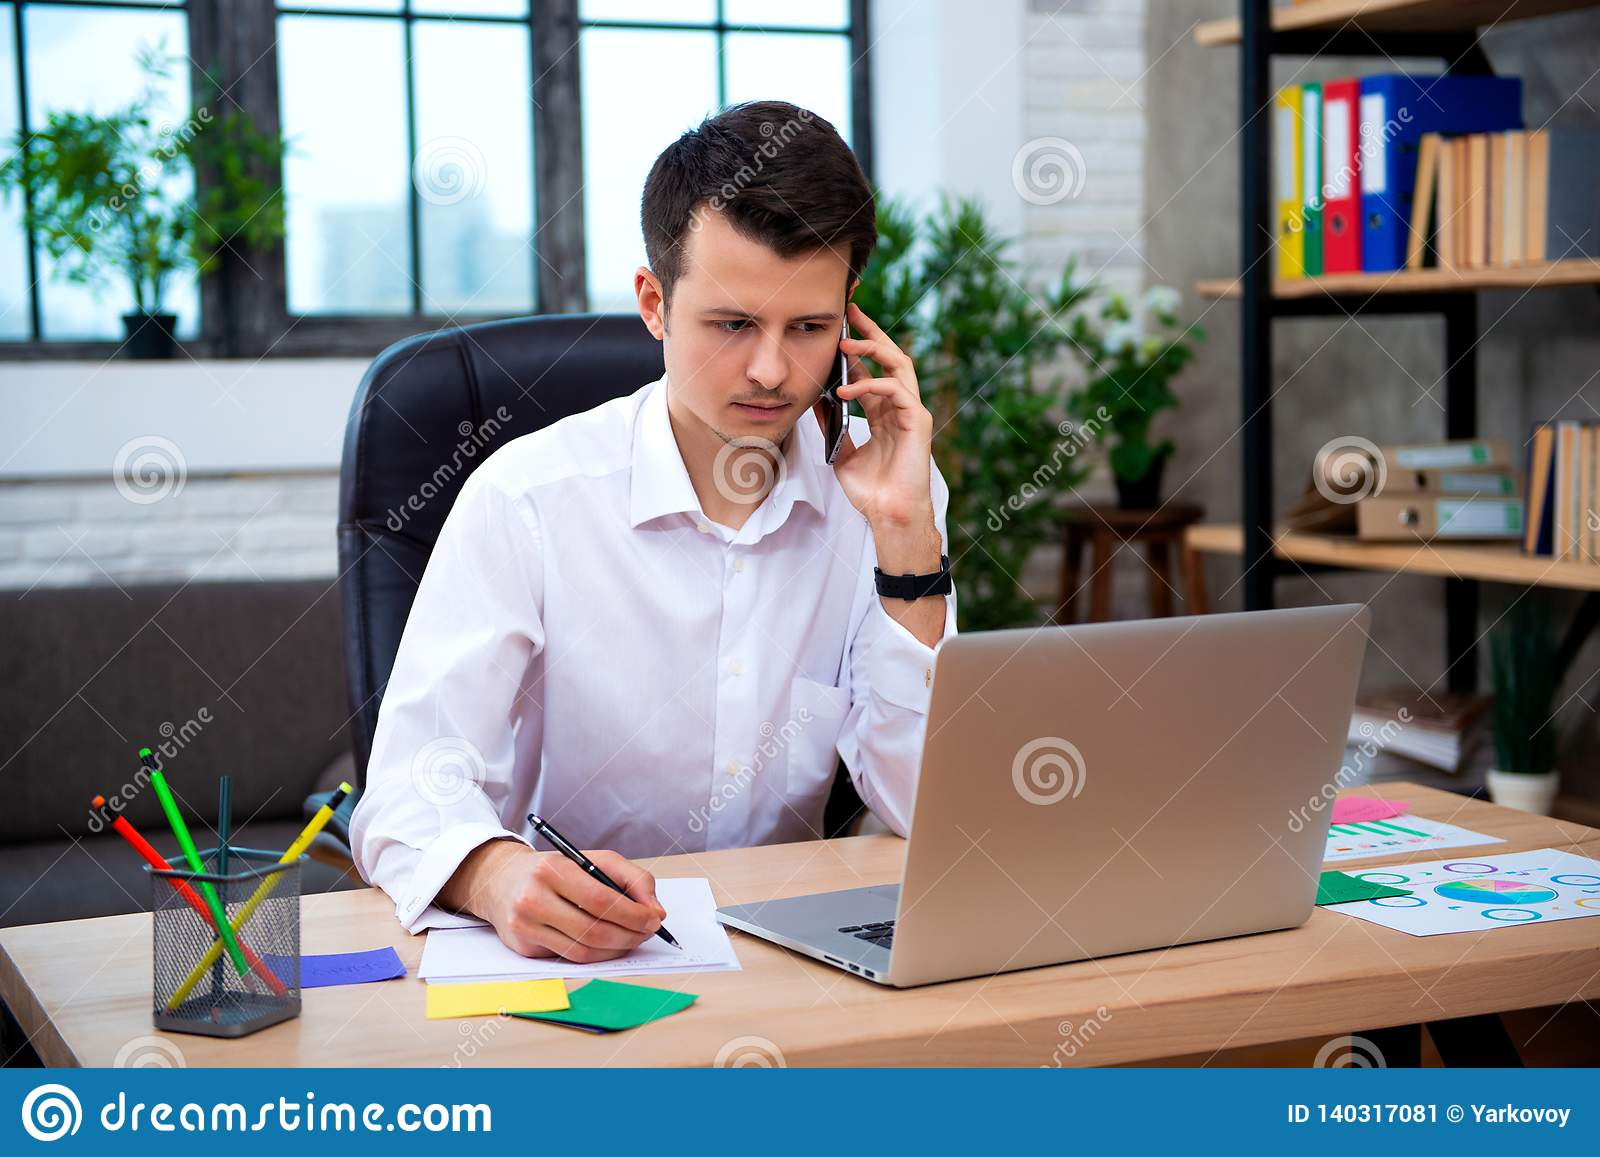phone: (817, 319, 858, 465)
talk: (687, 290, 943, 562)
